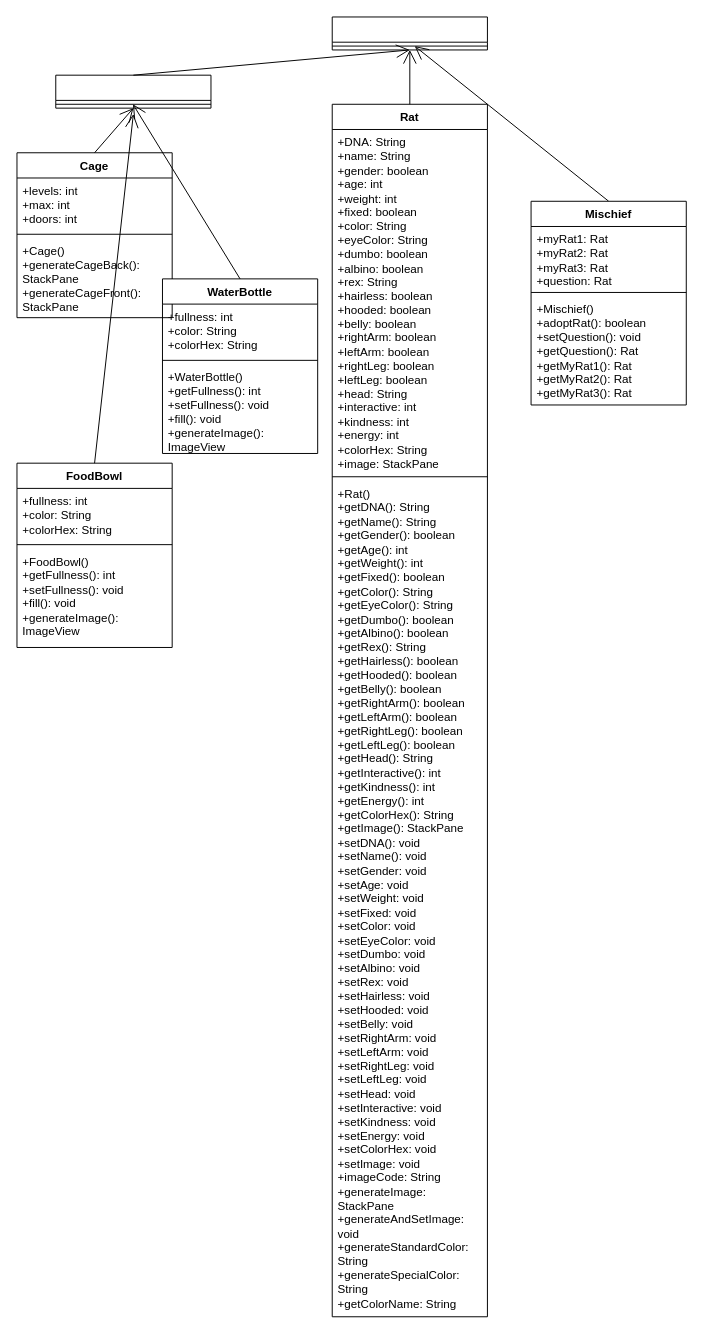
This 703x1337 diagram has some shape labels left out. Here are the shapes that lost their labels. From the top down, the centre of each, then its label:
At [409,33]: "DigitalMischief".
At [133,91]: "Material".
